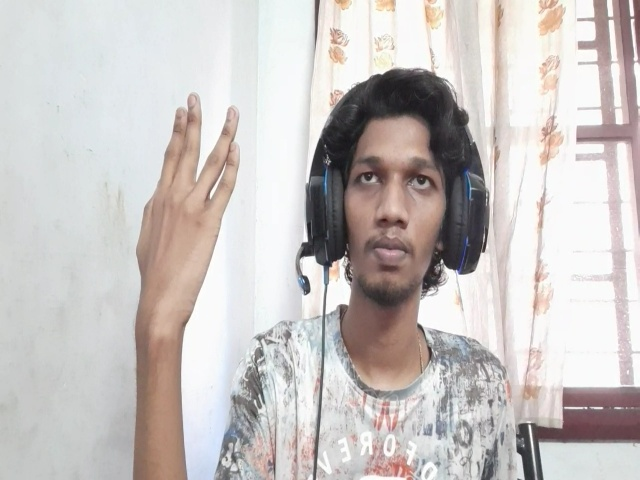LiveLong: (135, 92, 241, 323)
